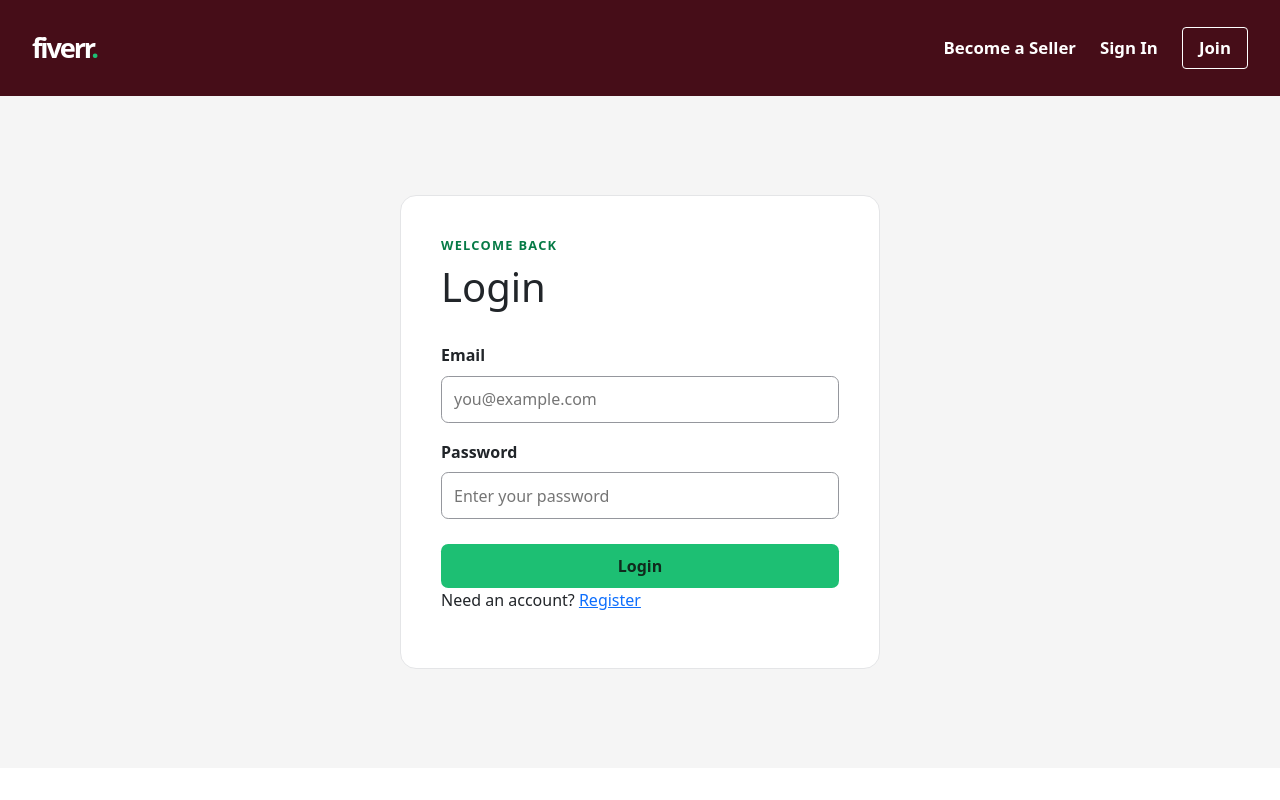
Scenario: routed Hire confirmation › returns a Visitor from Login to a fresh confirmation without creating a Hire
Expected: the heading "Login" is shown, [441,259,546,314]
In the field labelled "Email": (640, 399) [441,376,839,423], type "alex@example.com"
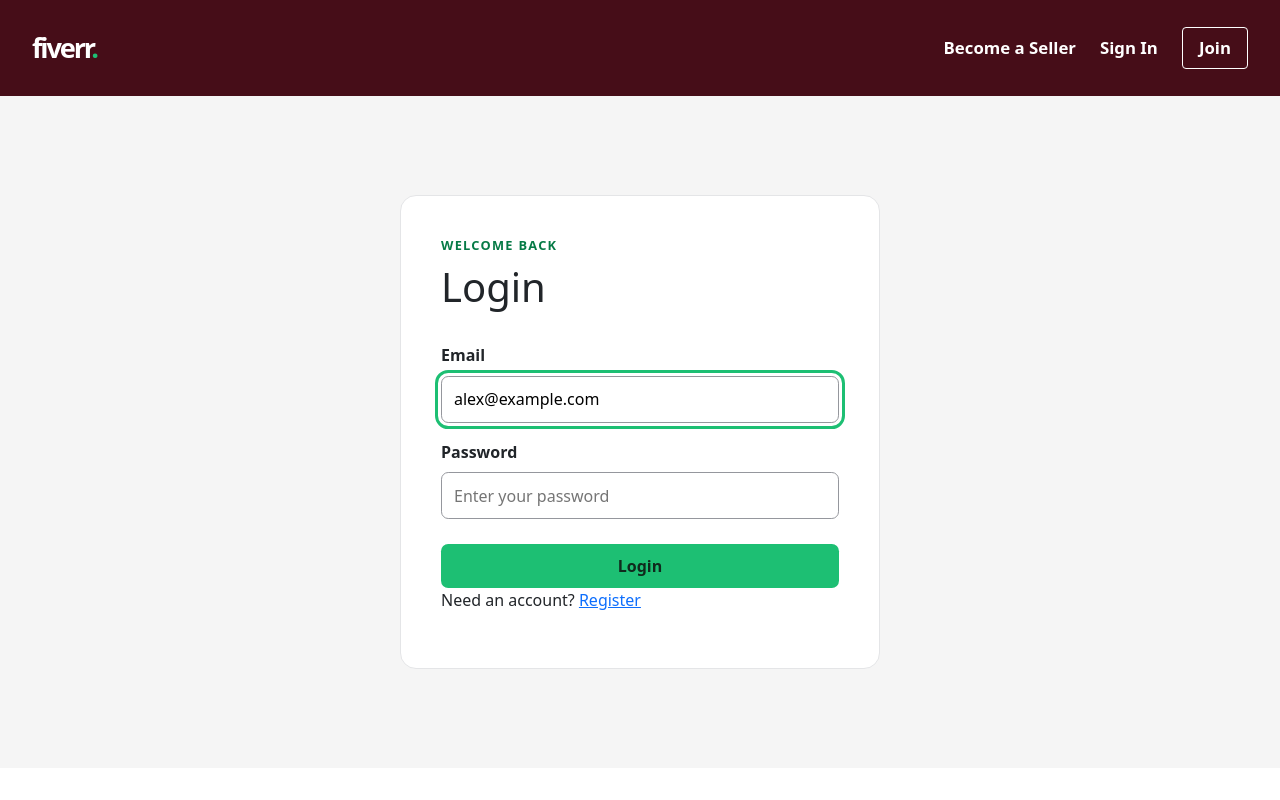
In the password field labelled "Password": (640, 496) [441,472,839,519], type "secret1"
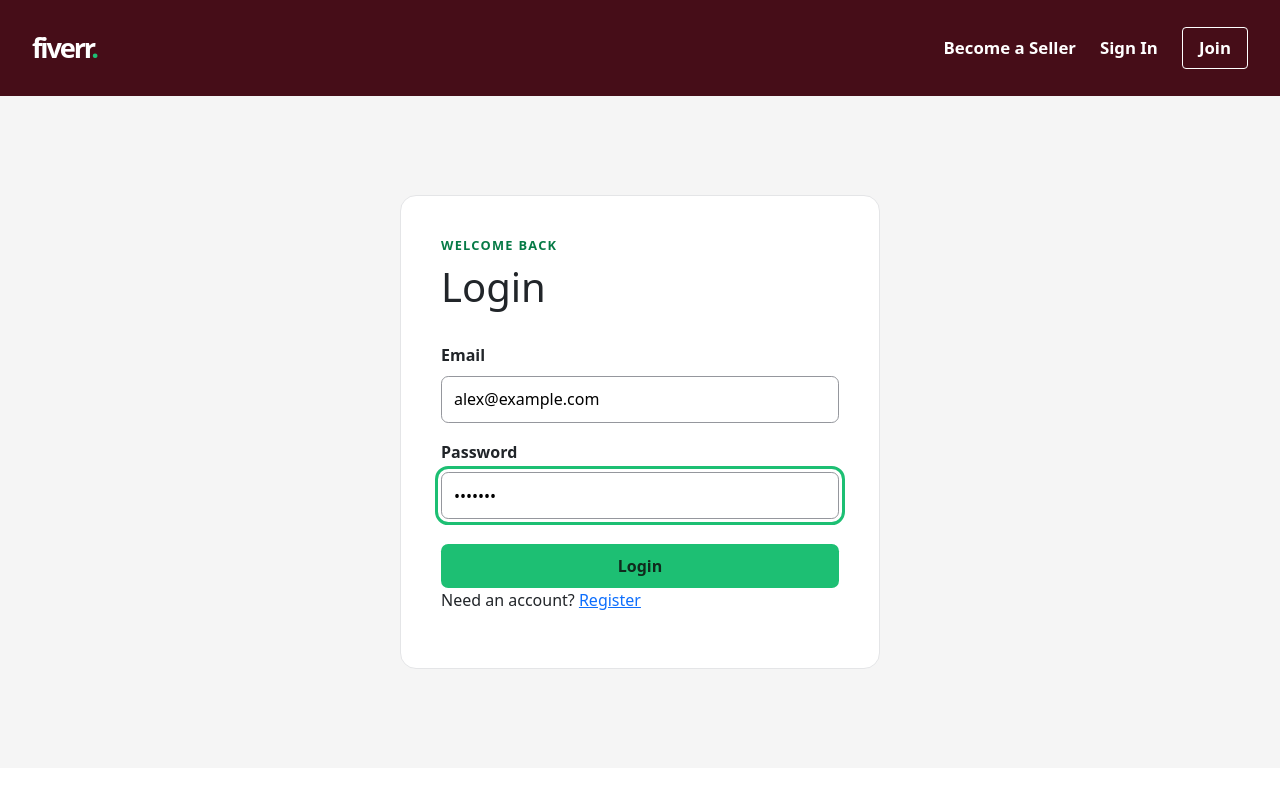
Click the button "Login": click(640, 566) [441,544,839,588]
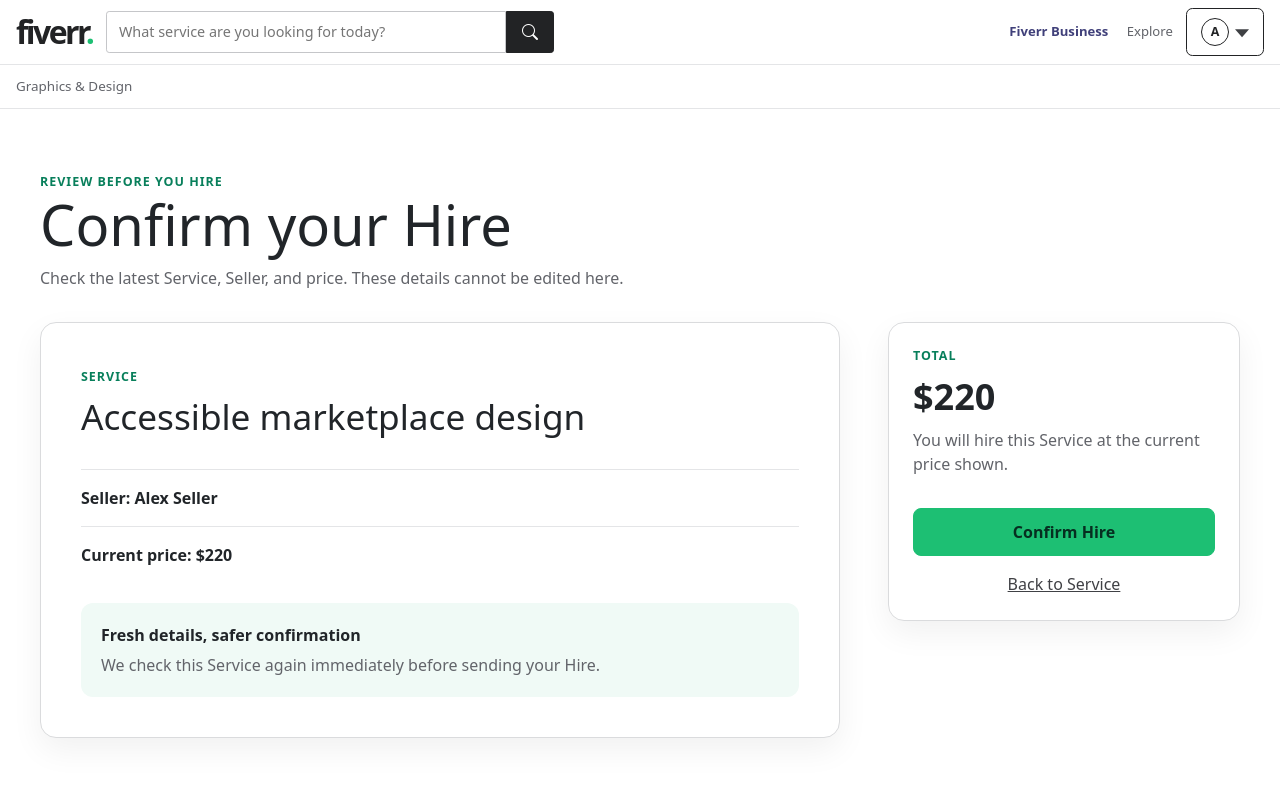
Expected: the heading "Confirm your Hire" is shown, [40,186,512,262]
Expected: the button "Confirm Hire" is enabled, [913,508,1215,556]
